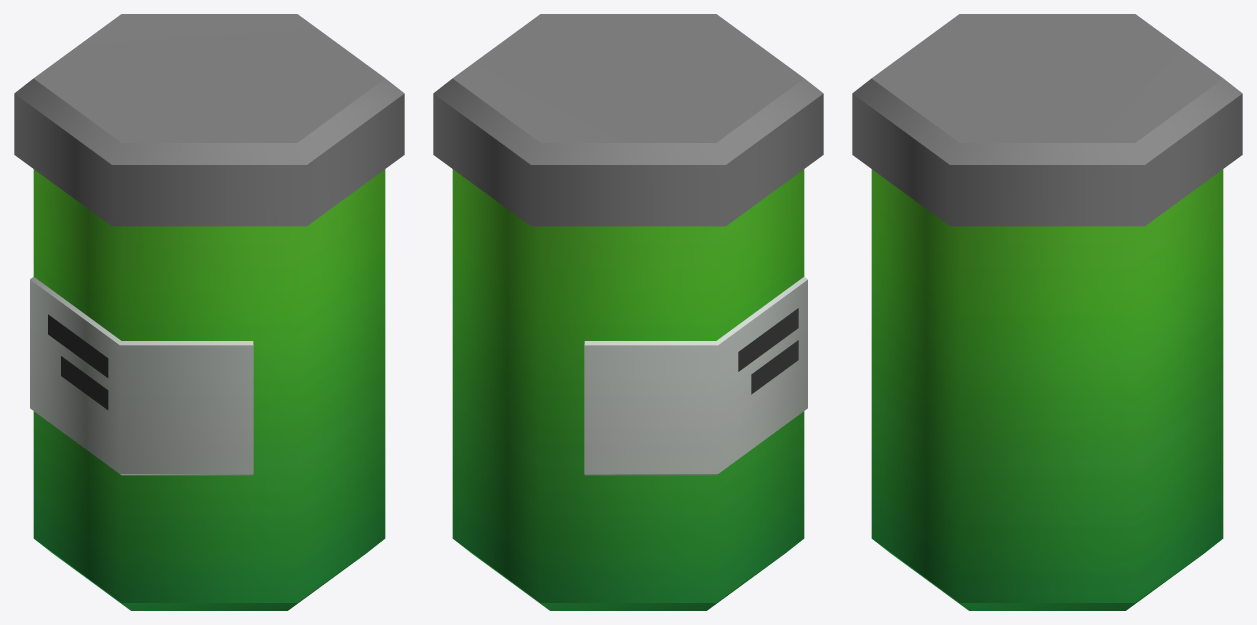
Rendered from Jar_3_H.fbx.
3 views of the same model, side by side, from view 1: azimuth 30°, elevation 25°; view 2: azimuth 150°, elevation 25°; view 3: azimuth 270°, elevation 25° (orthographic).
Visible parts, largest first — view 1: Jar_3_H; view 2: Jar_3_H; view 3: Jar_3_H.
Boxes of the visible parts, x1,y1,x2,y2 form: Jar_3_H: (14,14,404,610); Jar_3_H: (433,14,823,610); Jar_3_H: (852,14,1242,610).
Bounding box in the file's own units: 17.99 × 27.9 × 20.77.
